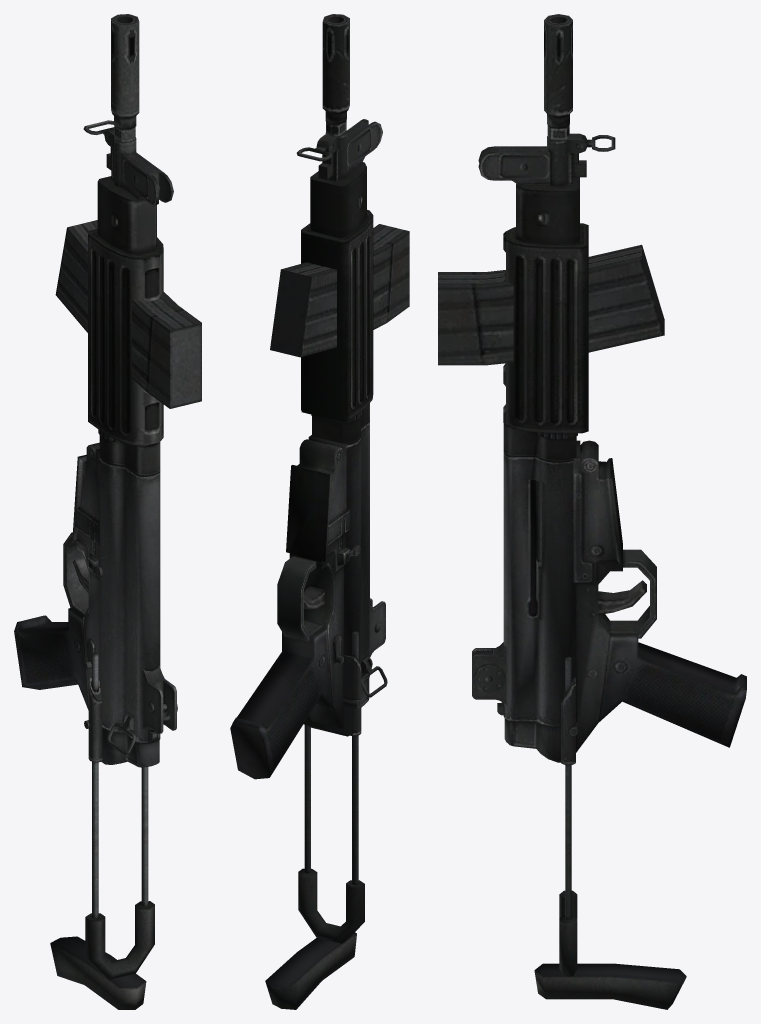
File: K-1_Zoom.obj
3 views of the same model, side by side, from view 1: azimuth 30°, elevation 25°; view 2: azimuth 150°, elevation 25°; view 3: azimuth 270°, elevation 25° (orthographic). The views are drawn at different scales.
Parts seen in each view (by area): view 1: Part_2, Part_1; view 2: Part_2, Part_1; view 3: Part_2, Part_1.
Boxes of the visible parts, box(x1,y1,x2,y2) form: Part_2: box(14, 14, 177, 1009); Part_1: box(55, 220, 201, 408); Part_2: box(230, 14, 387, 1009); Part_1: box(270, 224, 409, 357); Part_2: box(472, 14, 746, 1009); Part_1: box(438, 244, 664, 365).
Bounding box in the file's own units: 0.0546 × 0.7964 × 0.2266.
Materials: 1 (1 with a texture image).
